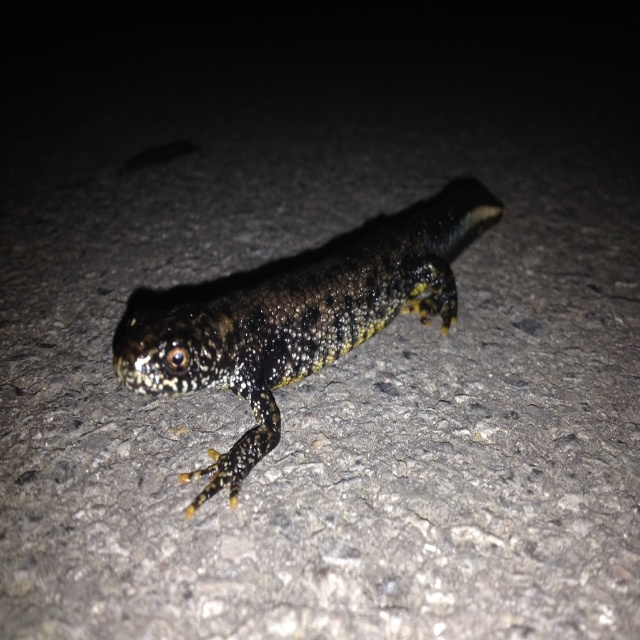Lizard: (107, 174, 505, 520)
